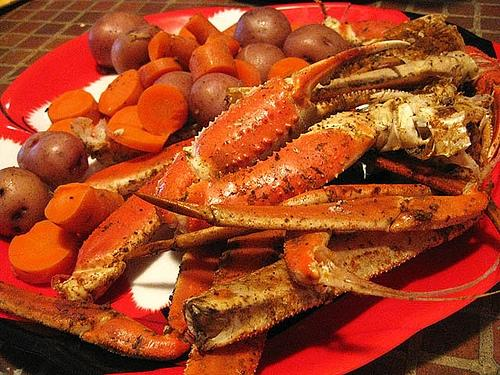carrot: (8, 219, 82, 284), (45, 182, 126, 235), (137, 83, 189, 136), (98, 68, 144, 116), (188, 42, 238, 86), (148, 30, 201, 70), (48, 89, 104, 126), (138, 57, 183, 90), (184, 12, 222, 46), (267, 57, 310, 81), (108, 105, 146, 131), (205, 32, 240, 59), (234, 58, 262, 86), (46, 118, 78, 138), (222, 22, 238, 37), (179, 25, 196, 38)
potato: (18, 131, 90, 191), (0, 166, 54, 238), (88, 12, 150, 71), (188, 72, 242, 128), (282, 24, 348, 64), (234, 7, 292, 52), (111, 25, 164, 74), (152, 72, 197, 127), (236, 44, 287, 84)
